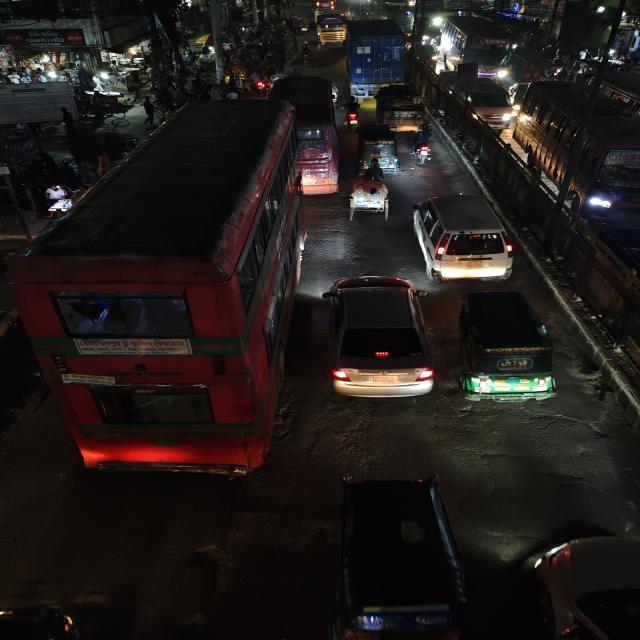bicycle: (301, 46, 310, 68)
bus: (43, 99, 291, 482), (541, 95, 640, 231), (270, 74, 335, 205), (451, 18, 512, 73), (314, 12, 346, 50)
car: (318, 270, 434, 398), (417, 188, 517, 283), (475, 84, 516, 138)
cng: (328, 469, 470, 634), (446, 289, 562, 408), (356, 124, 404, 175)
motorcycle: (408, 126, 447, 169), (343, 96, 361, 130)
pedestrian: (59, 98, 77, 139), (136, 96, 158, 126)
pickup_van: (373, 80, 428, 130)
rickshaw: (343, 166, 396, 224)
truck: (341, 24, 400, 96)
